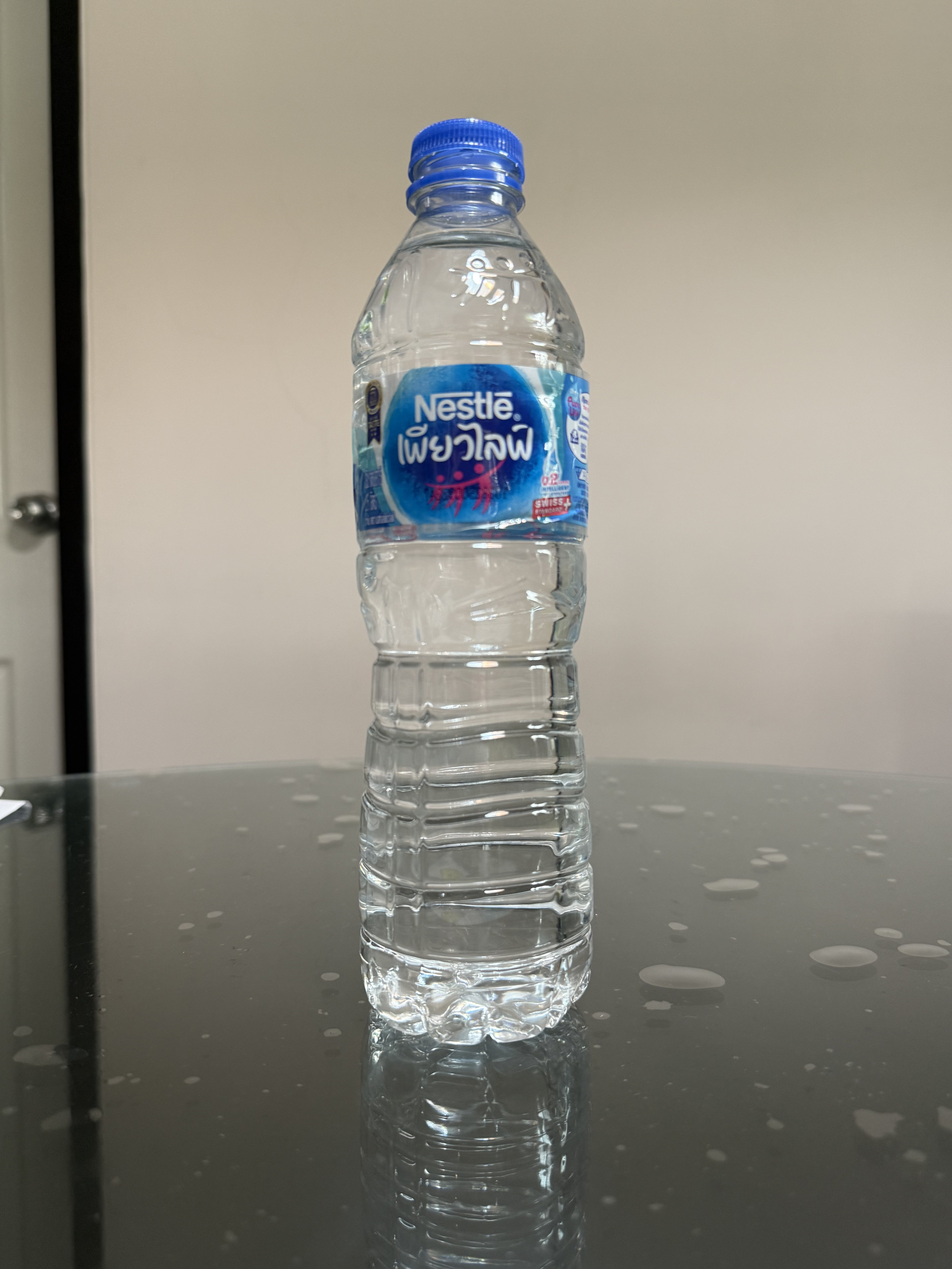half_cap: (402, 114, 527, 212)
